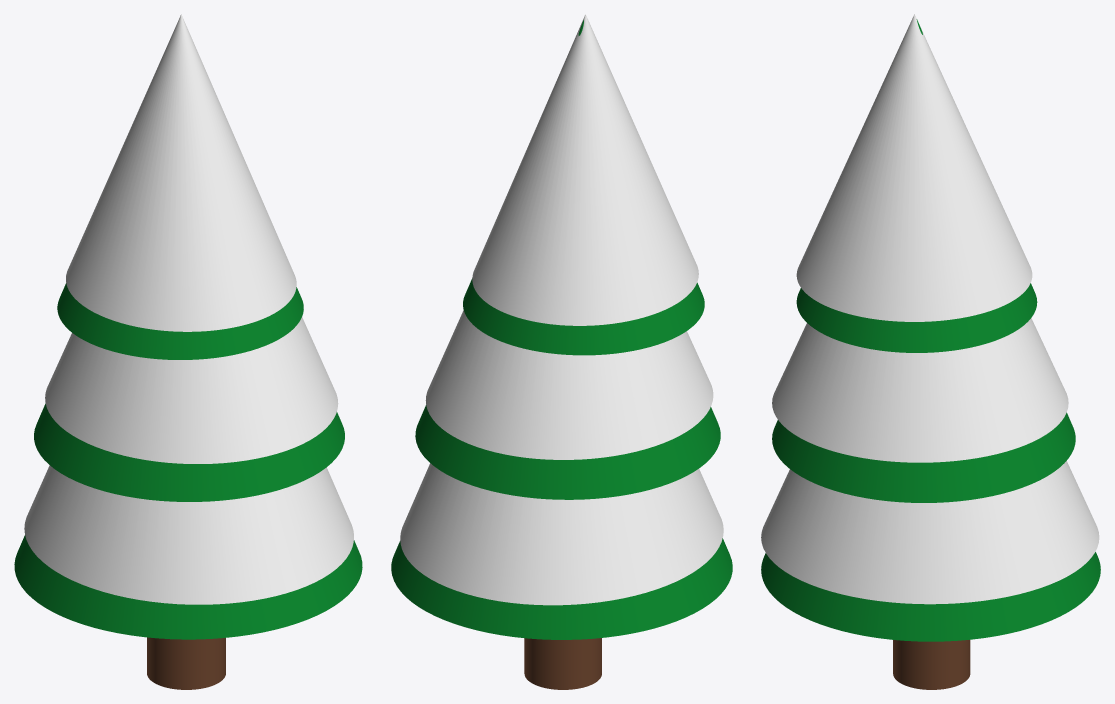
Rendered from arvore.glb.
The picture shows the model from 3 angles, left to right: view 1: azimuth 30°, elevation 25°; view 2: azimuth 150°, elevation 25°; view 3: azimuth 270°, elevation 25°; orthographic projection. The views are drawn at different scales.
Parts seen in each view (by area): view 1: mesh_id223, mesh_id235, mesh_id229, mesh_id217, mesh_id211, mesh_id205, mesh_id237; view 2: mesh_id223, mesh_id235, mesh_id229, mesh_id211, mesh_id217, mesh_id205, mesh_id237; view 3: mesh_id223, mesh_id235, mesh_id229, mesh_id217, mesh_id211, mesh_id205, mesh_id237.
Part boxes in pixels (x1=…): mesh_id223: x1=66, y1=14, x2=296, y2=331; mesh_id235: x1=24, y1=465, x2=353, y2=604; mesh_id229: x1=45, y1=317, x2=338, y2=463; mesh_id217: x1=14, y1=535, x2=362, y2=639; mesh_id211: x1=34, y1=403, x2=344, y2=501; mesh_id205: x1=57, y1=283, x2=303, y2=359; mesh_id237: x1=147, y1=637, x2=225, y2=689; mesh_id223: x1=472, y1=14, x2=698, y2=325; mesh_id235: x1=400, y1=463, x2=723, y2=605; mesh_id229: x1=425, y1=310, x2=713, y2=459; mesh_id211: x1=415, y1=405, x2=720, y2=499; mesh_id217: x1=391, y1=538, x2=732, y2=639; mesh_id205: x1=463, y1=20, x2=704, y2=355; mesh_id237: x1=524, y1=638, x2=601, y2=689; mesh_id223: x1=796, y1=14, x2=1032, y2=321; mesh_id235: x1=761, y1=461, x2=1099, y2=604; mesh_id229: x1=772, y1=318, x2=1068, y2=462; mesh_id217: x1=761, y1=552, x2=1100, y2=641; mesh_id211: x1=772, y1=412, x2=1075, y2=502; mesh_id205: x1=796, y1=19, x2=1037, y2=352; mesh_id237: x1=893, y1=640, x2=970, y2=689.
Bounding box in the file's own units: 0.189 × 0.4008 × 0.189.
6 materials, 6 textured.
